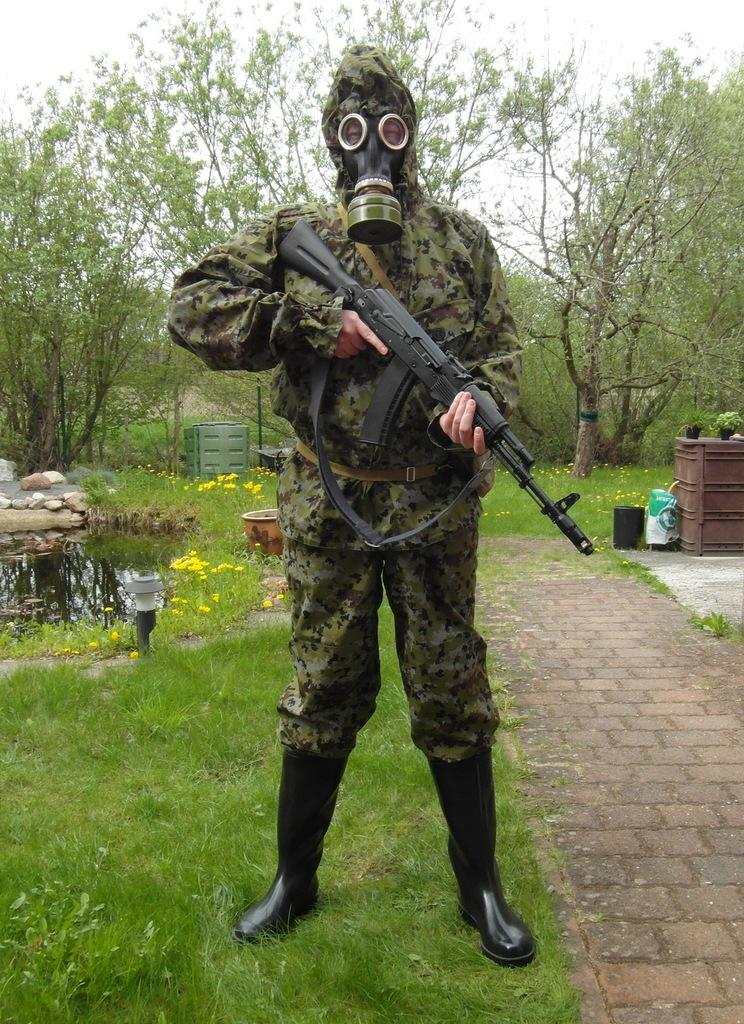Rifle: (230, 219, 599, 569)
